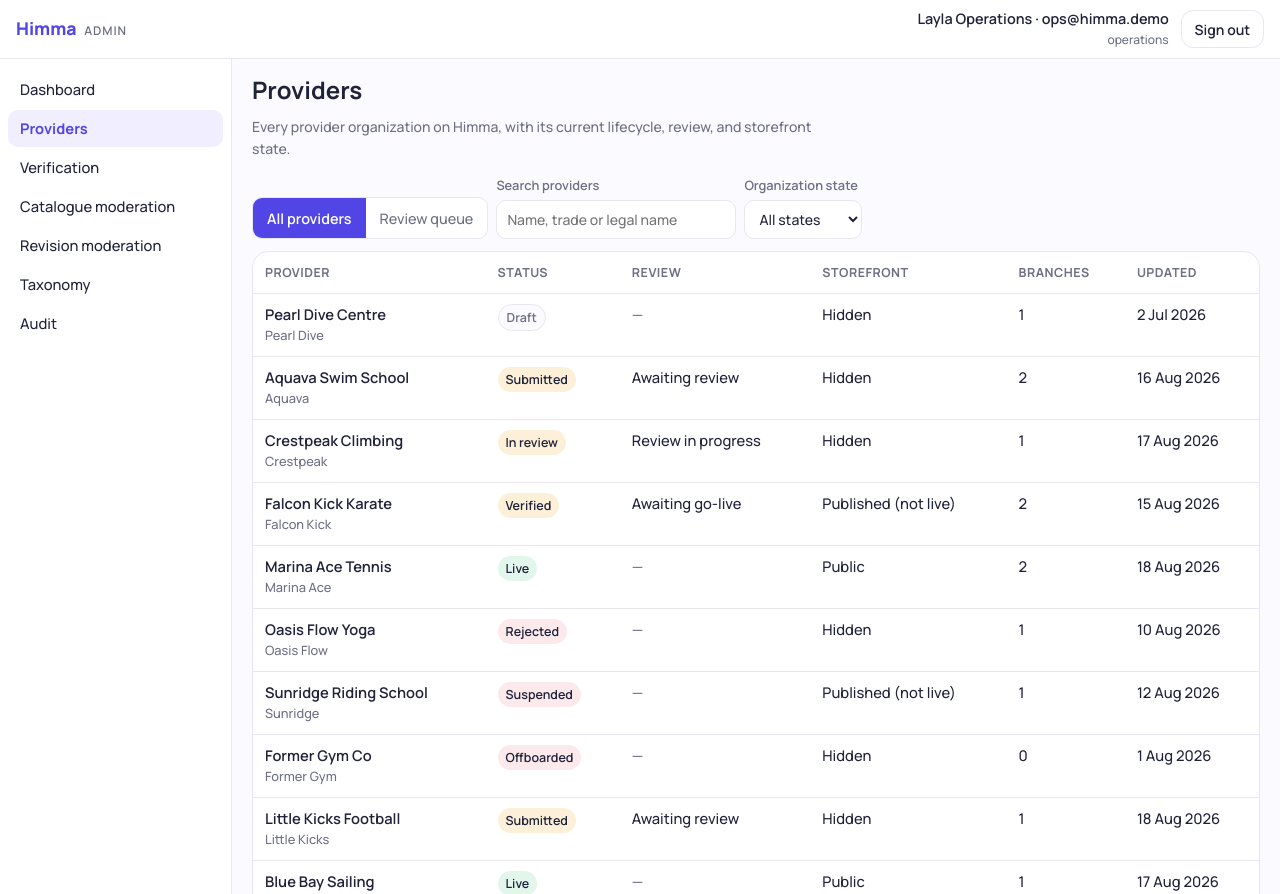
Test: provider directory (task §22) › search drives the SERVER query (q parameter), resets pagination, and shows a truthful filtered-empty state
This screenshot has width=1280, height=894.
Expected: the link "Marina Ace Tennis" is shown, [265,556,392,576]
Step 1. Type "aquava" into the search field labelled "Search providers" → (616, 220), box [496,200,736,239]
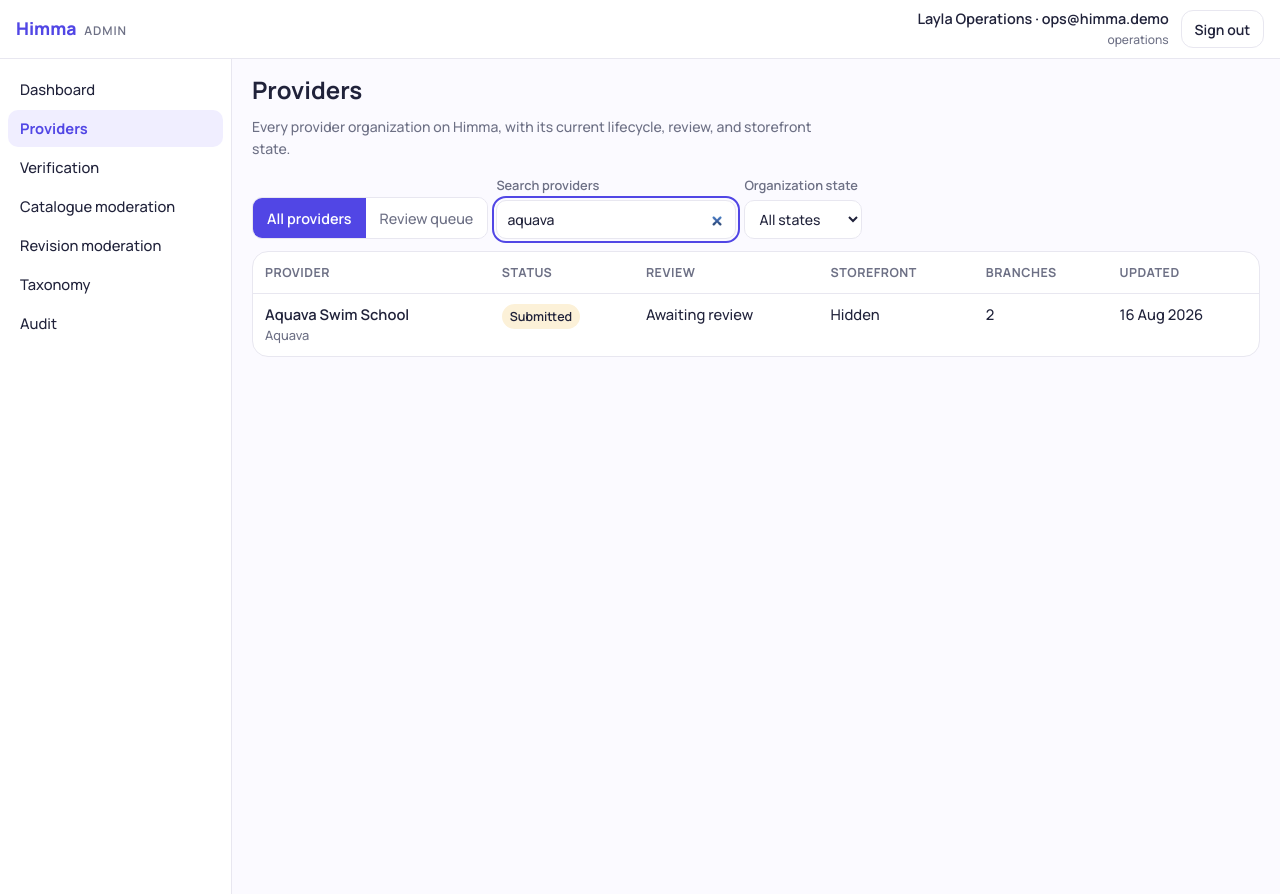
Expected: the link "Aquava Swim School" is shown, [265,304,409,324]
Expected: the link "Marina Ace Tennis" is gone
Step 2. Replace the text in the search field labelled "Search providers" with "zz-no-such-provider" → (616, 220), box [496,200,736,239]
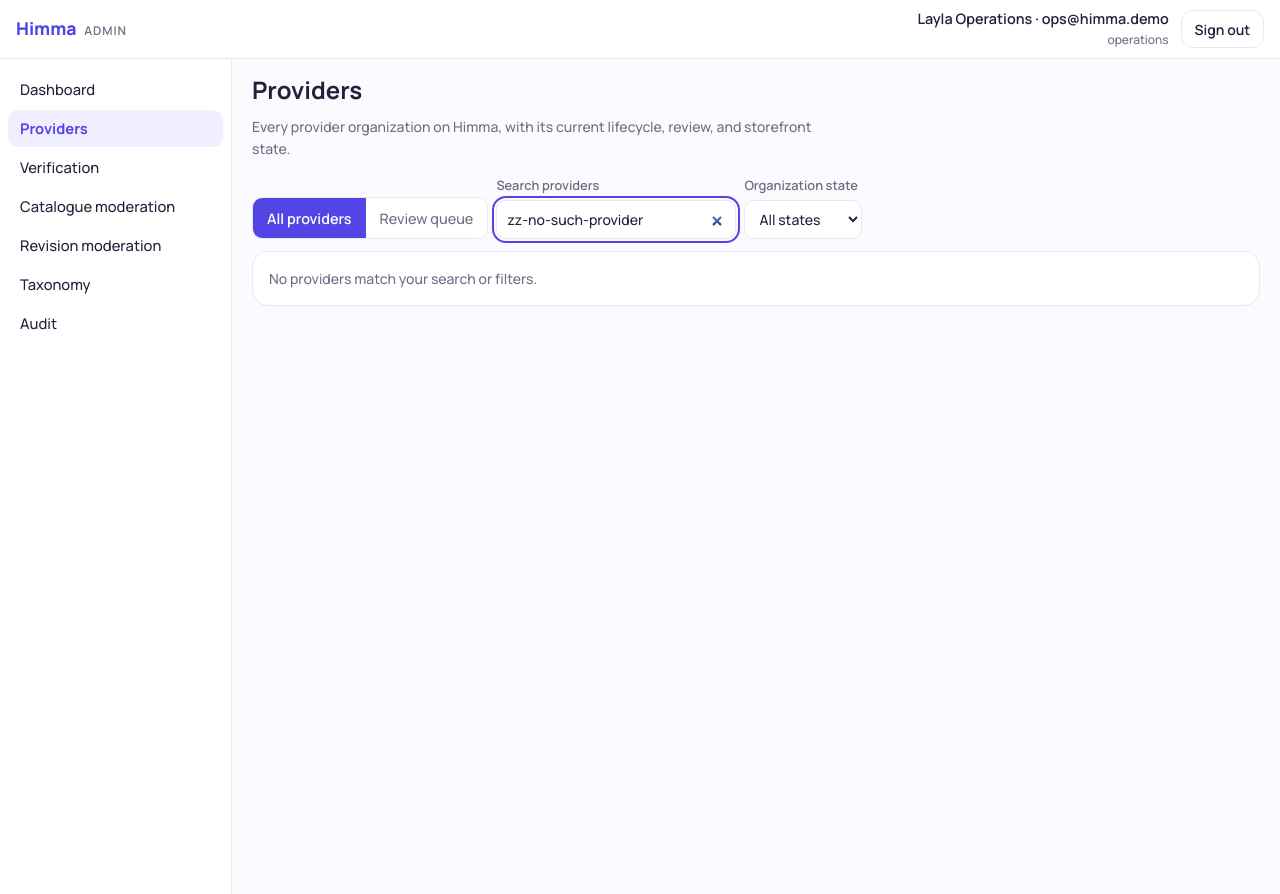
Expected: the text "No providers match your search or filters." is shown, [252,251,1260,306]
